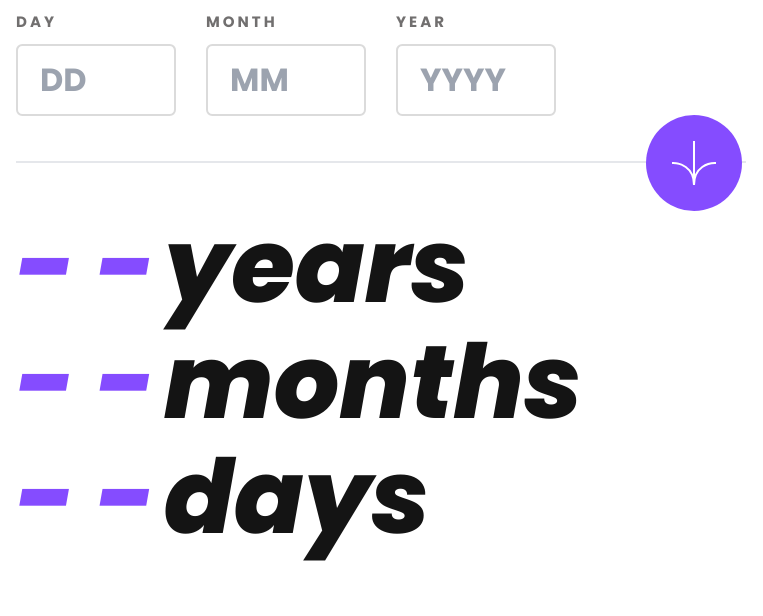
Renders component correctly › Should have required error messages
Click the button with test id "submit-button": (694, 163) [646,115,742,211]
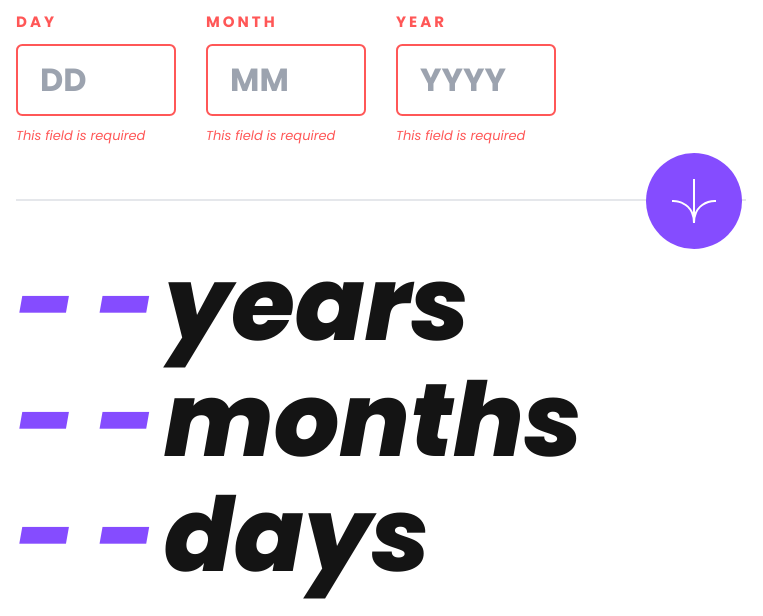
Expected: the 1st text with class "error-message" reads "This field is required", [16,126,145,144]
Expected: the 2nd text with class "error-message" reads "This field is required", [206,126,335,144]
Expected: the 3rd text with class "error-message" reads "This field is required", [396,126,525,144]
